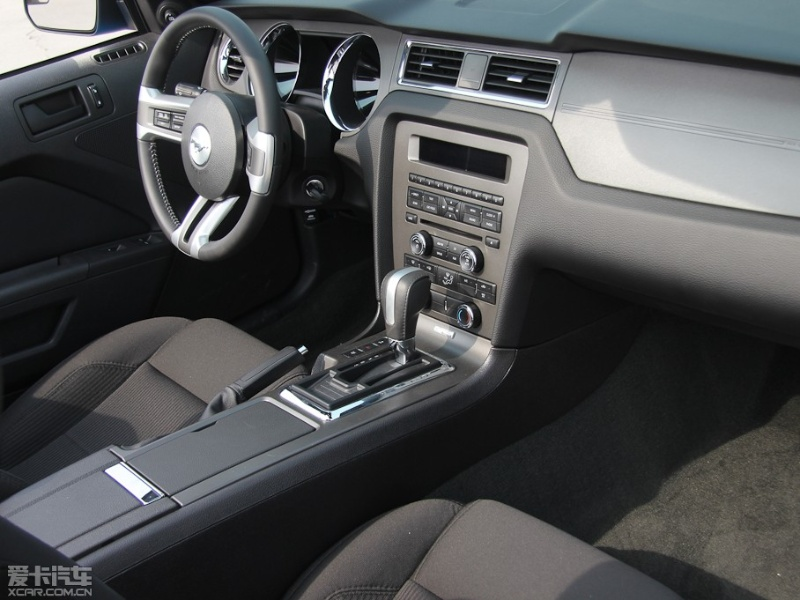control_center: (391, 22, 558, 277)
gear_lever: (366, 264, 466, 394)
odometer: (259, 22, 382, 136)
steering_wheel: (136, 12, 293, 260)
